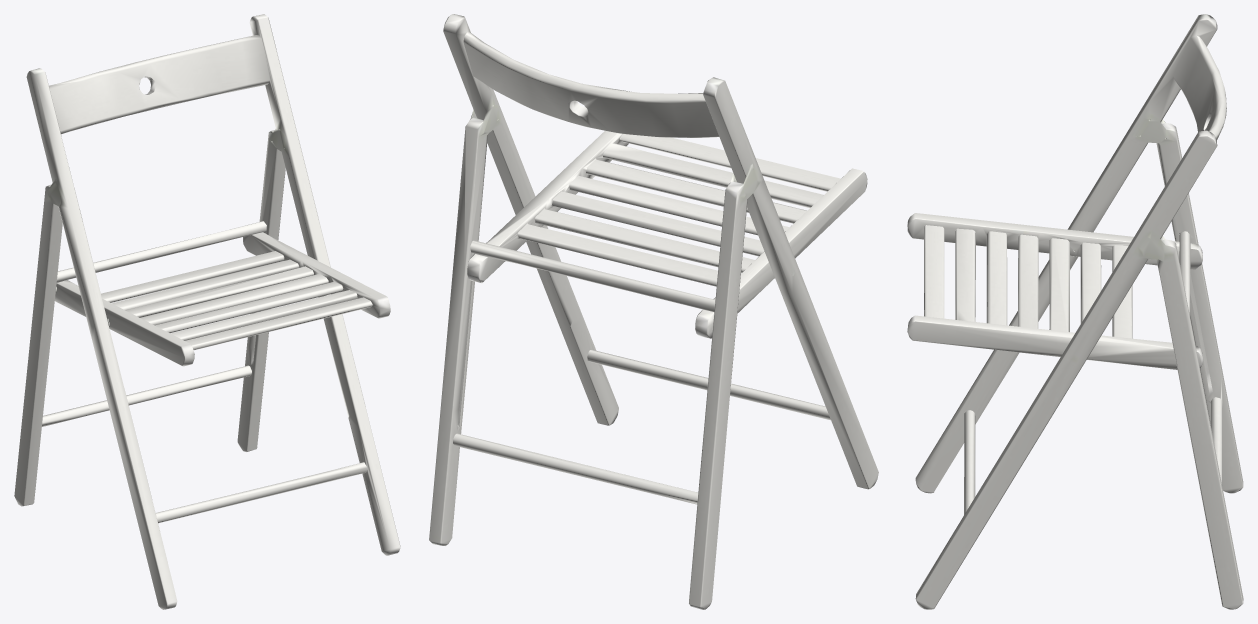
The model's file is FR_SVI_80534329.glb.
The picture shows the model from 3 angles, left to right: view 1: azimuth 30°, elevation 25°; view 2: azimuth 150°, elevation 25°; view 3: azimuth 270°, elevation 25°; orthographic projection. The views are drawn at different scales.
Visible parts, largest first — view 1: ProcessedMeshNode; view 2: ProcessedMeshNode; view 3: ProcessedMeshNode.
Part boxes in pixels (x1=…): ProcessedMeshNode: x1=14, y1=14, x2=400, y2=609; ProcessedMeshNode: x1=429, y1=14, x2=878, y2=609; ProcessedMeshNode: x1=907, y1=14, x2=1243, y2=609.
Bounding box in the file's own units: 0.4363 × 0.7796 × 0.5001.
Materials: 1 (1 with a texture image).
